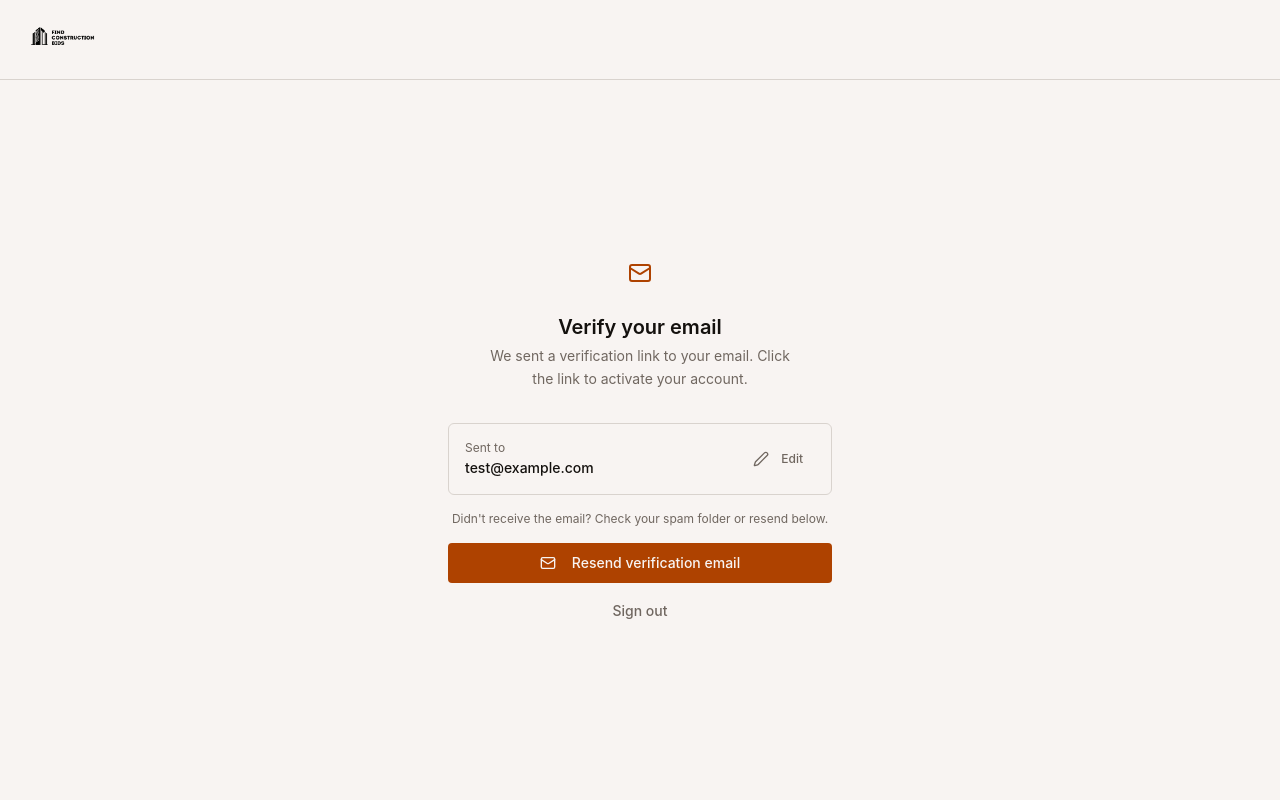
EmailVerificationPendingPage › resend verification › shows a green success banner after clicking resend
Click the button with test id "button-resend-verification": (640, 563) [448, 543, 832, 583]
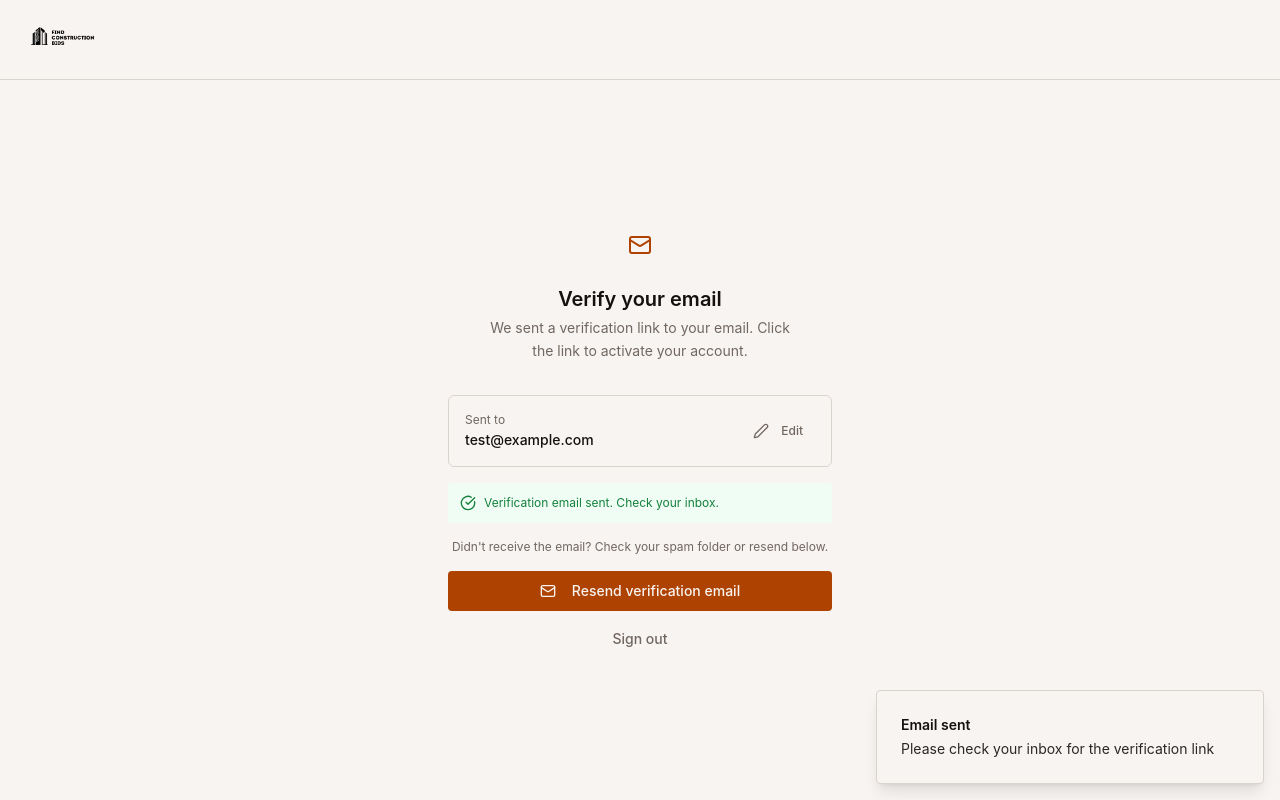
Expected: the text "Verification email sent. Check your inbox." is shown, [484, 495, 719, 511]
